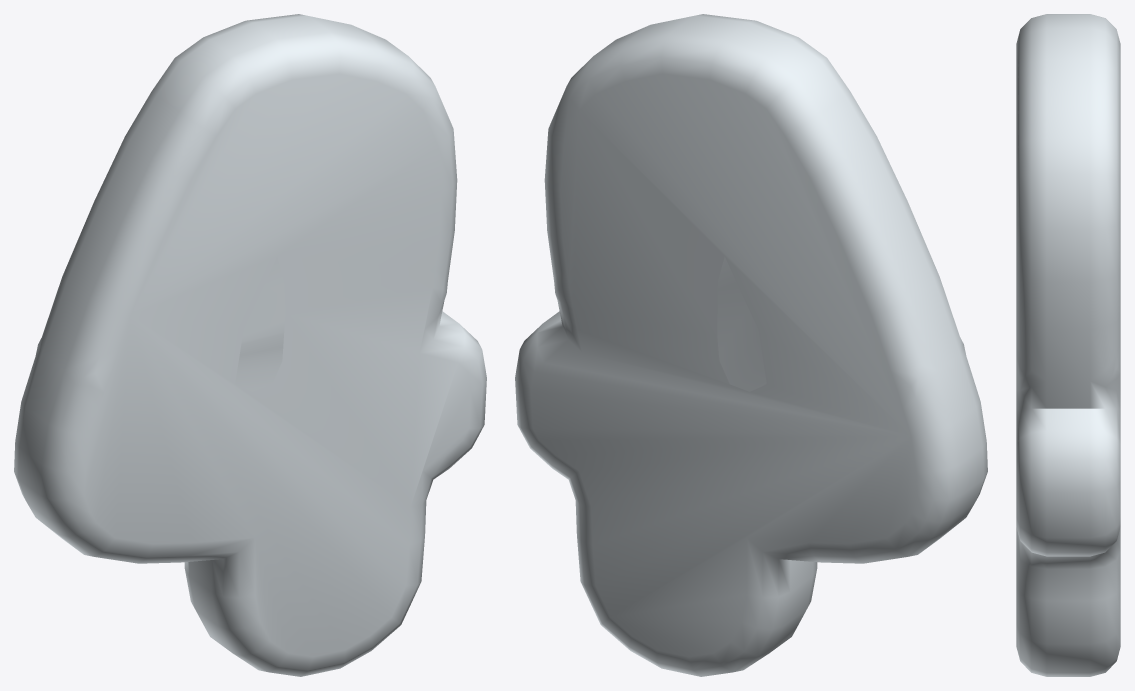
File: NumberFour 1.fbx
3 views of the same model, side by side, from view 1: azimuth 30°, elevation 25°; view 2: azimuth 150°, elevation 25°; view 3: azimuth 270°, elevation 25° (orthographic). The views are drawn at different scales.
Visible parts, largest first — view 1: Vert.005; view 2: Vert.005; view 3: Vert.005.
Part boxes in pixels (x1,y1,x2,y2): Vert.005: [14, 14, 486, 676]; Vert.005: [515, 14, 987, 676]; Vert.005: [1016, 14, 1120, 676].
Bounding box in the file's own units: 235 × 326 × 50.18.
